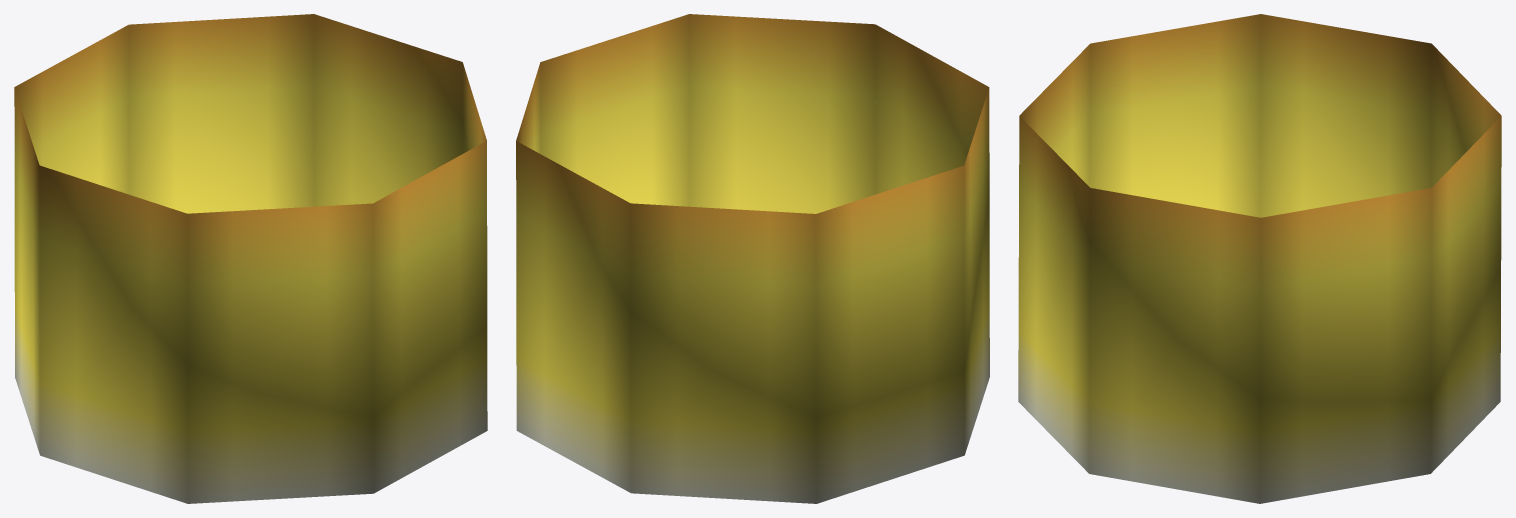
The picture shows the model from 3 angles, left to right: view 1: azimuth 30°, elevation 25°; view 2: azimuth 150°, elevation 25°; view 3: azimuth 270°, elevation 25°; orthographic projection.
Visible parts, largest first — view 1: T1L4M003_16; view 2: T1L4M003_16; view 3: T1L4M003_16.
Part boxes in pixels (x1=…): T1L4M003_16: x1=14, y1=14, x2=487, y2=503; T1L4M003_16: x1=516, y1=14, x2=989, y2=503; T1L4M003_16: x1=1018, y1=14, x2=1501, y2=503.
Bounding box in the file's own units: 0.458 × 0.2998 × 0.459.
